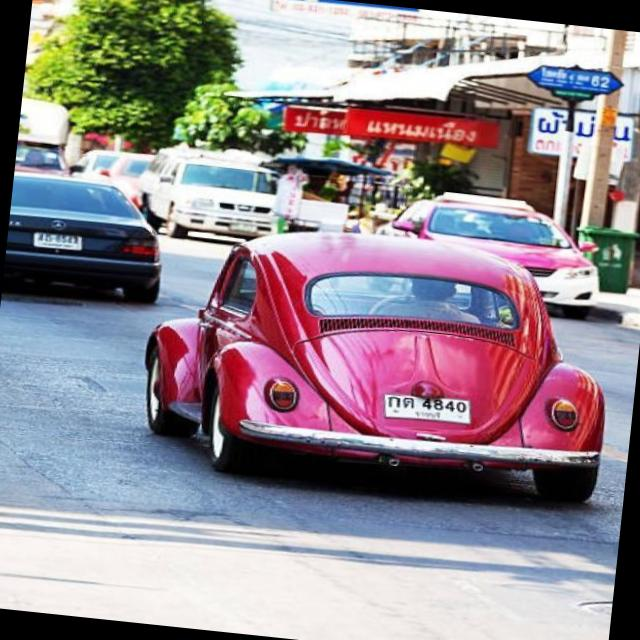car: (143, 212, 640, 513), (2, 179, 154, 303), (134, 152, 292, 249)
